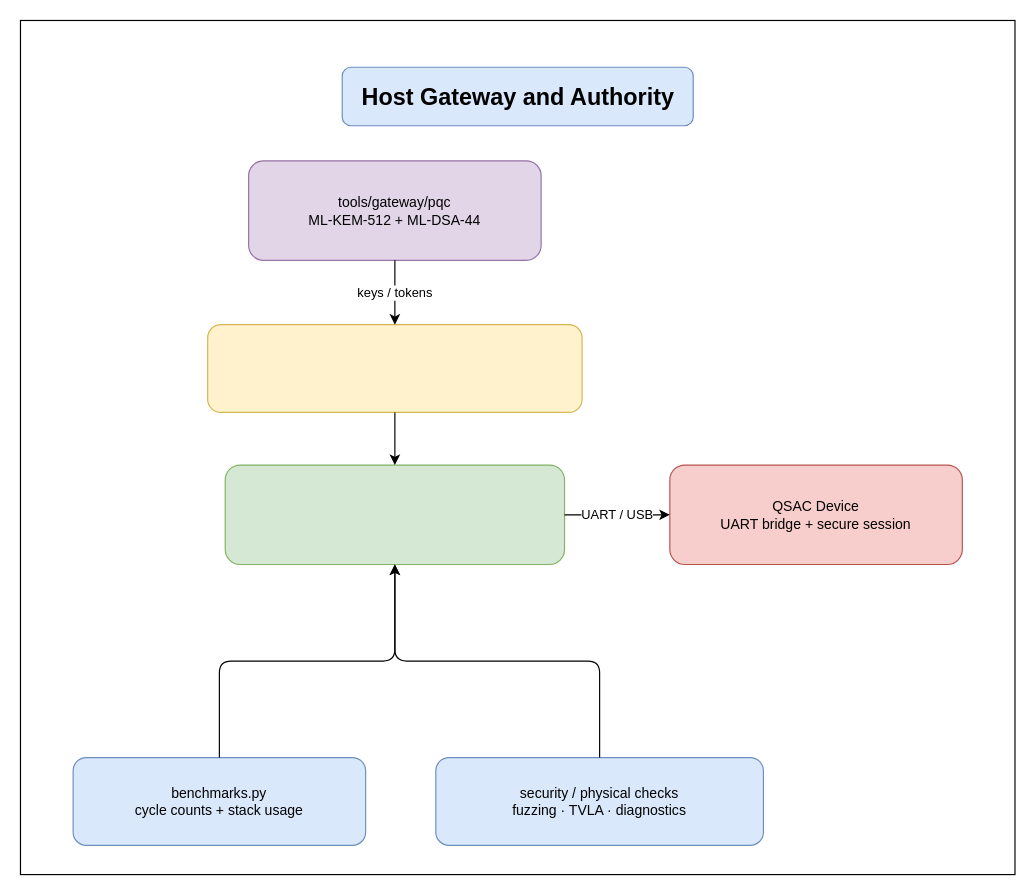
The diagram is 1035 pixels wide and 895 high, and some of its shapes have lost their labels. Each missing label, with the centre of its shape:
"qsac_server.py interactive authority CLI" belongs at (394,368).
"Serial Transport COM/TTY · frame encode/decode" belongs at (394,514).
